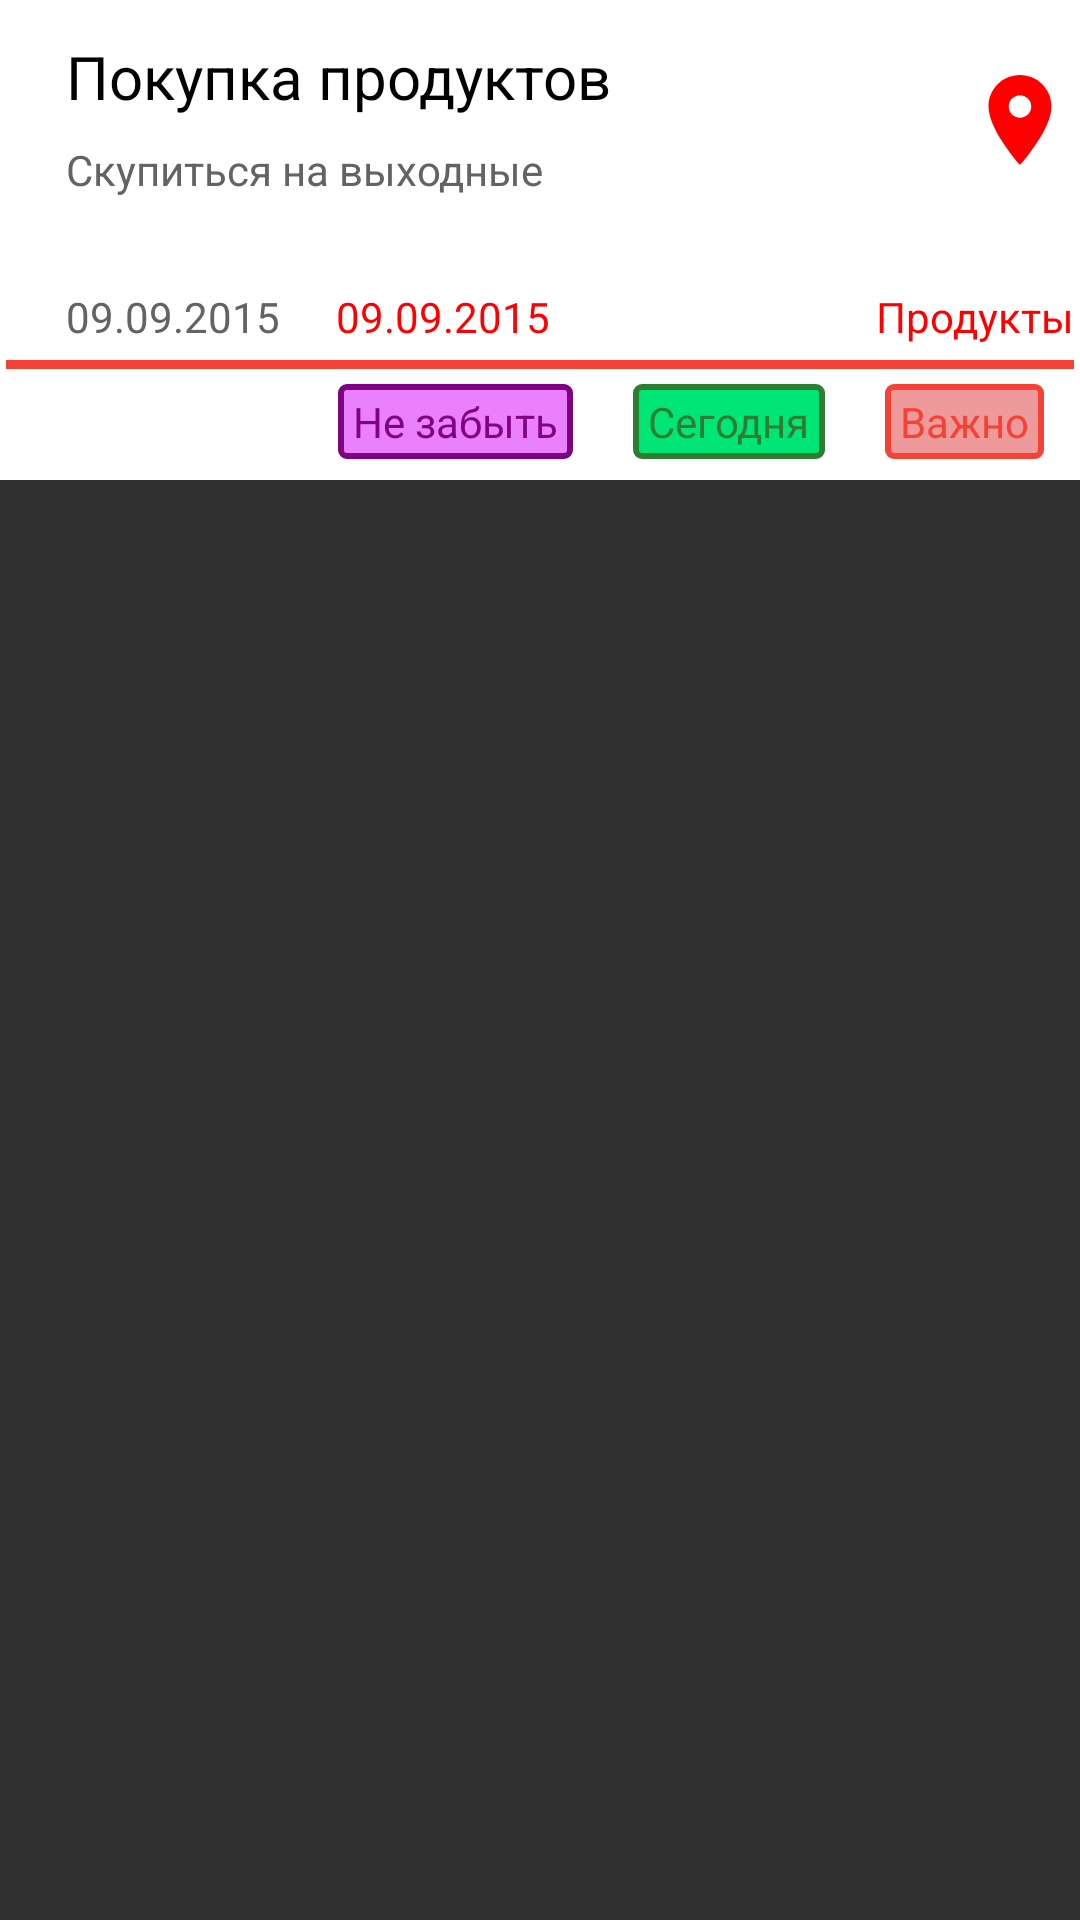

Where to tap for icons on this 1080 x 1920 app screen, as [x,y]:
location on: [1020,120]
